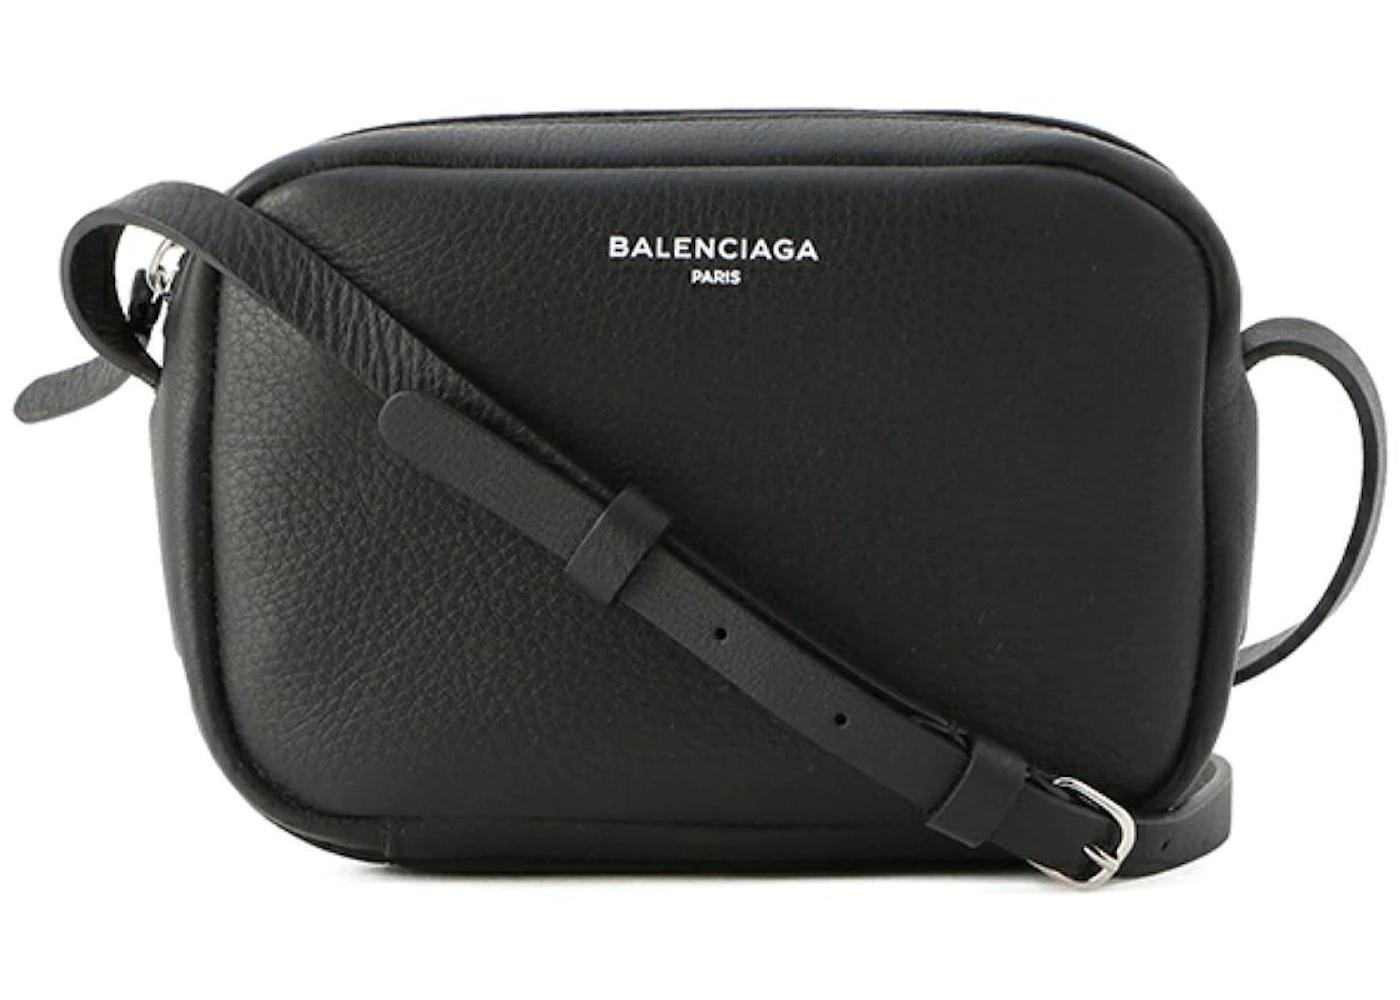BALENCIAGA: (609, 234, 819, 261)
